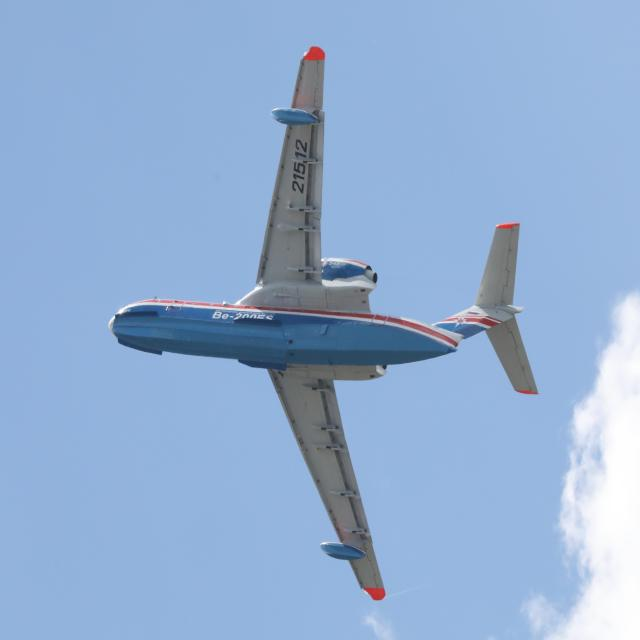MIL_Plane: (0, 0, 281, 344)
